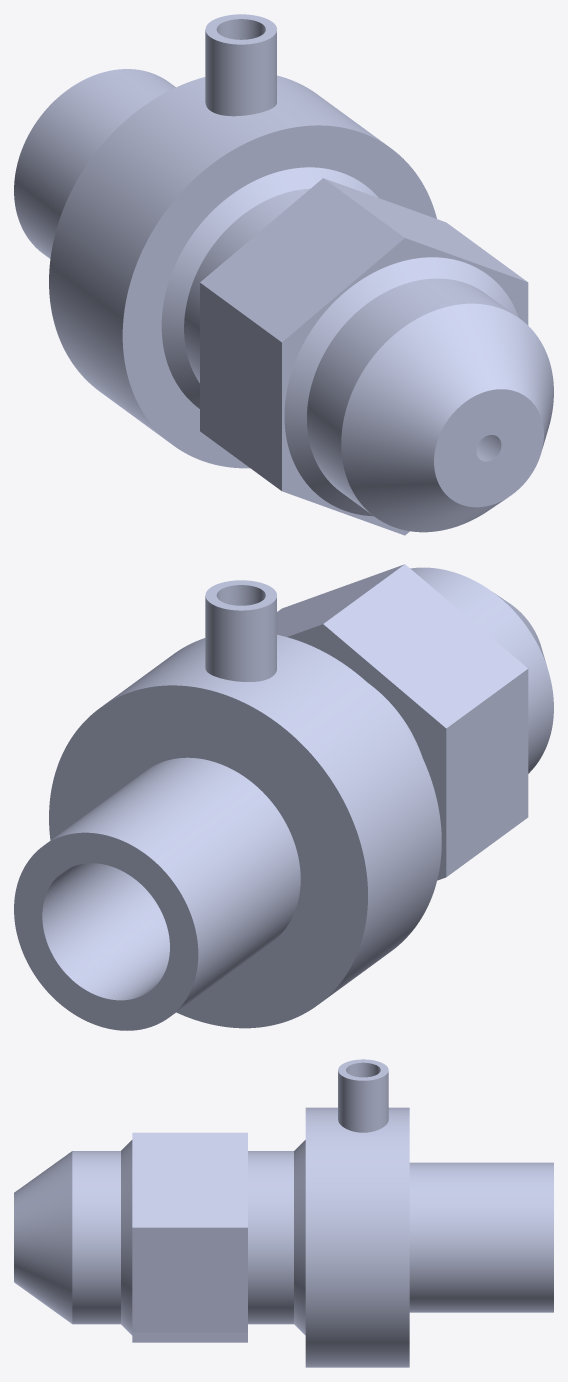
The picture shows the model from 3 angles, top to bottom: view 1: azimuth 30°, elevation 25°; view 2: azimuth 150°, elevation 25°; view 3: azimuth 270°, elevation 25°; orthographic projection. The views are drawn at different scales.
Parts seen in each view (by area): view 1: Solid; view 2: Solid; view 3: Solid.
Boxes of the visible parts, box(x1,y1,x2,y2) form: Solid: box(14, 14, 553, 535); Solid: box(14, 564, 553, 1030); Solid: box(14, 1059, 553, 1367).
Bounding box in the file's own units: 45 × 54.5 × 93.5.
